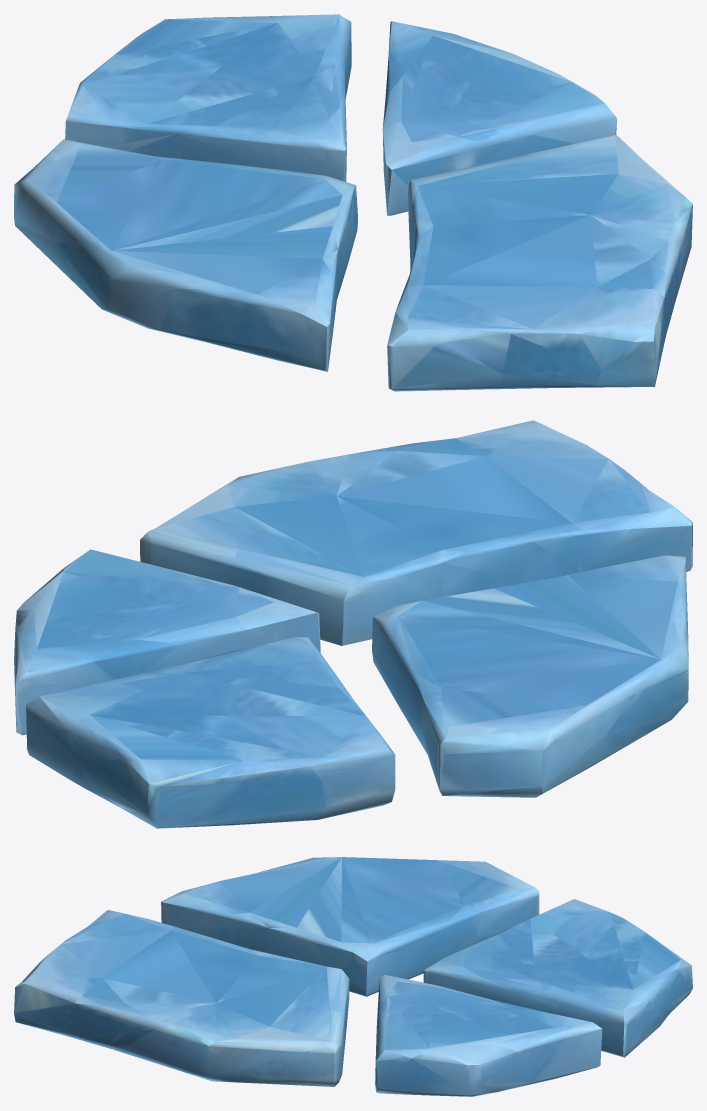
The model's file is placa_hielo_rota.glb.
3 renders of one model, top to bottom at view 1: azimuth 30°, elevation 25°; view 2: azimuth 150°, elevation 25°; view 3: azimuth 270°, elevation 25°, orthographic. The views are drawn at different scales.
Visible parts, largest first — view 1: placa_hielo_rota_malla; view 2: placa_hielo_rota_malla; view 3: placa_hielo_rota_malla.
Boxes of the visible parts, x1,y1,x2,y2 form: placa_hielo_rota_malla: (14,14,692,391); placa_hielo_rota_malla: (14,420,692,828); placa_hielo_rota_malla: (14,857,692,1096).
Bounding box in the file's own units: 0.2609 × 0.0277 × 0.3712.
Materials: 1 (1 with a texture image).
